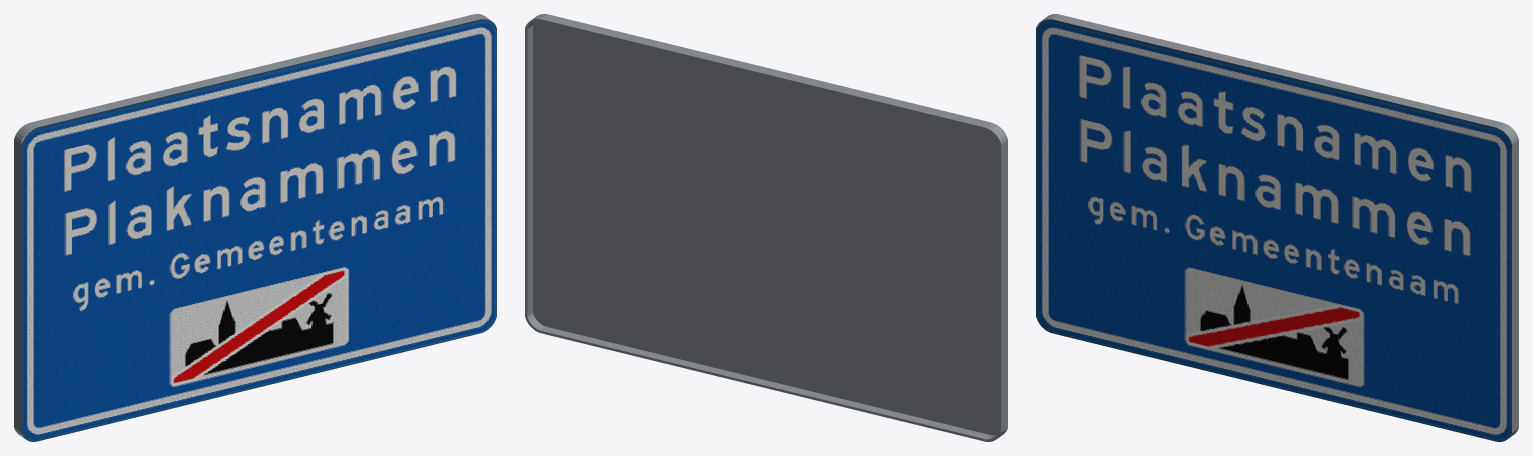
3 renders of one model, left to right at view 1: azimuth 30°, elevation 25°; view 2: azimuth 150°, elevation 25°; view 3: azimuth 330°, elevation 25°, orthographic.
Visible parts, largest first — view 1: cat_6492cf1dbf606157; view 2: cat_6492cf1dbf606157; view 3: cat_6492cf1dbf606157.
Boxes of the visible parts, left/top/right/bottom form: cat_6492cf1dbf606157: left=14, top=14, right=496, bottom=441; cat_6492cf1dbf606157: left=525, top=14, right=1007, bottom=441; cat_6492cf1dbf606157: left=1036, top=14, right=1518, bottom=441.
Bounding box in the file's own units: 0.6 × 0.015 × 0.3781.
Materials: 2 (1 with a texture image).
